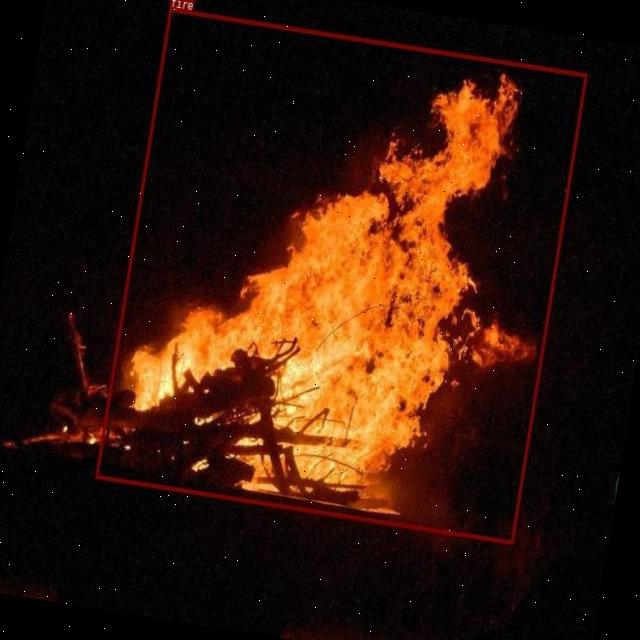fire: (95, 7, 588, 544)
